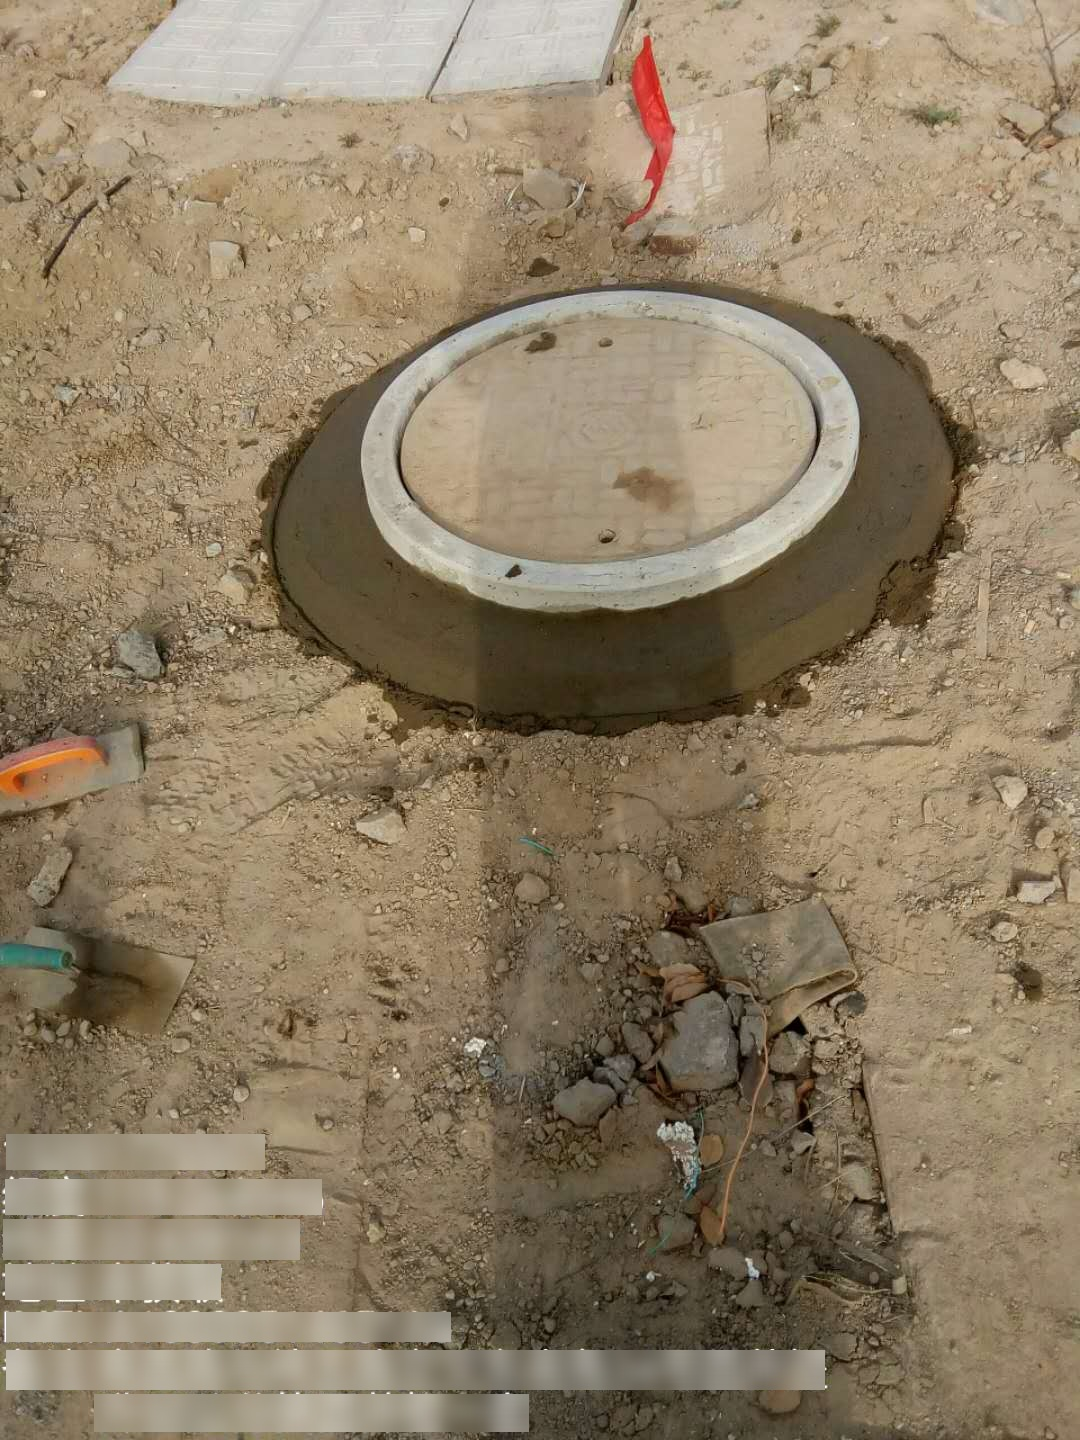good: (358, 288, 862, 612)
